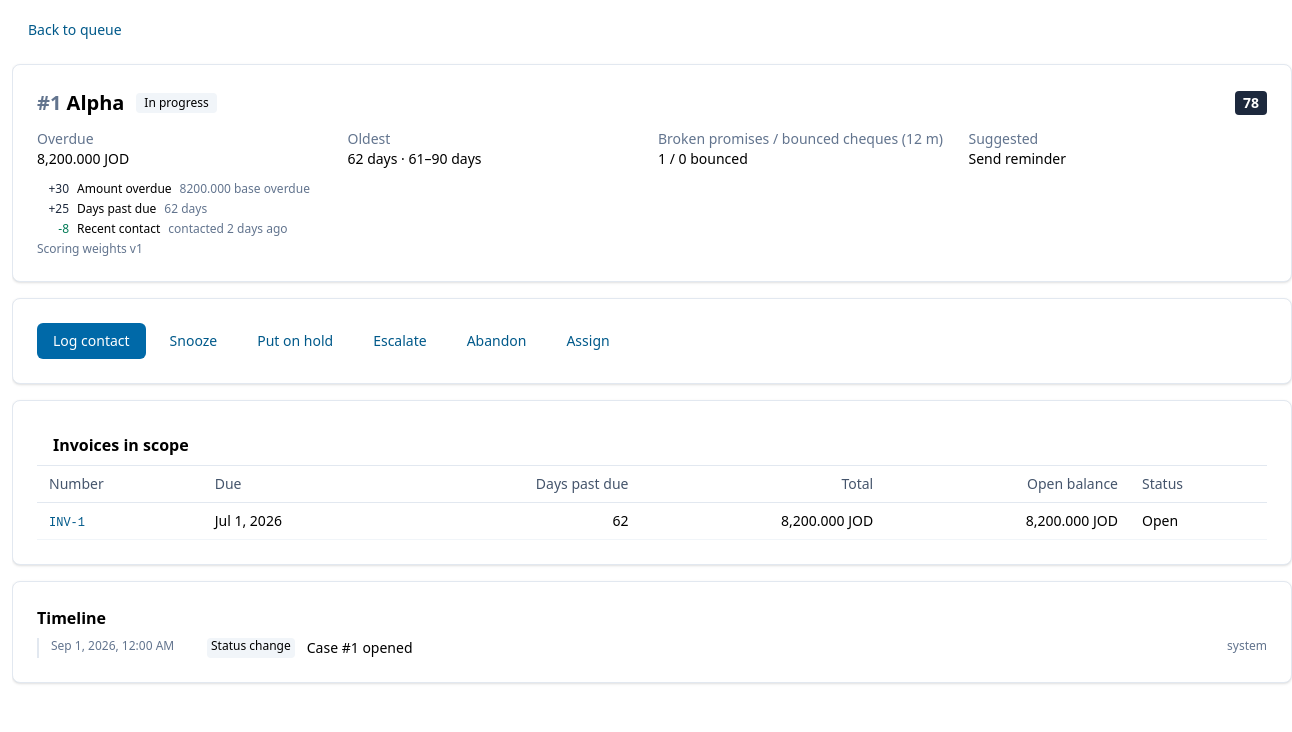
Scenario: collection queue (slice 5 AC-17) › shows the hard confirmation before escalating and sends the reason
The image size is (1292, 732).
Expected: the element with test id "priority-score" reads "78", x1=1243 y1=93 x2=1259 y2=112
Expected: the list with test id "factor-breakdown" is shown, x1=37 y1=180 x2=310 y2=257
Click the button with test id "escalate": coordinates (400, 341) x1=357 y1=323 x2=443 y2=359
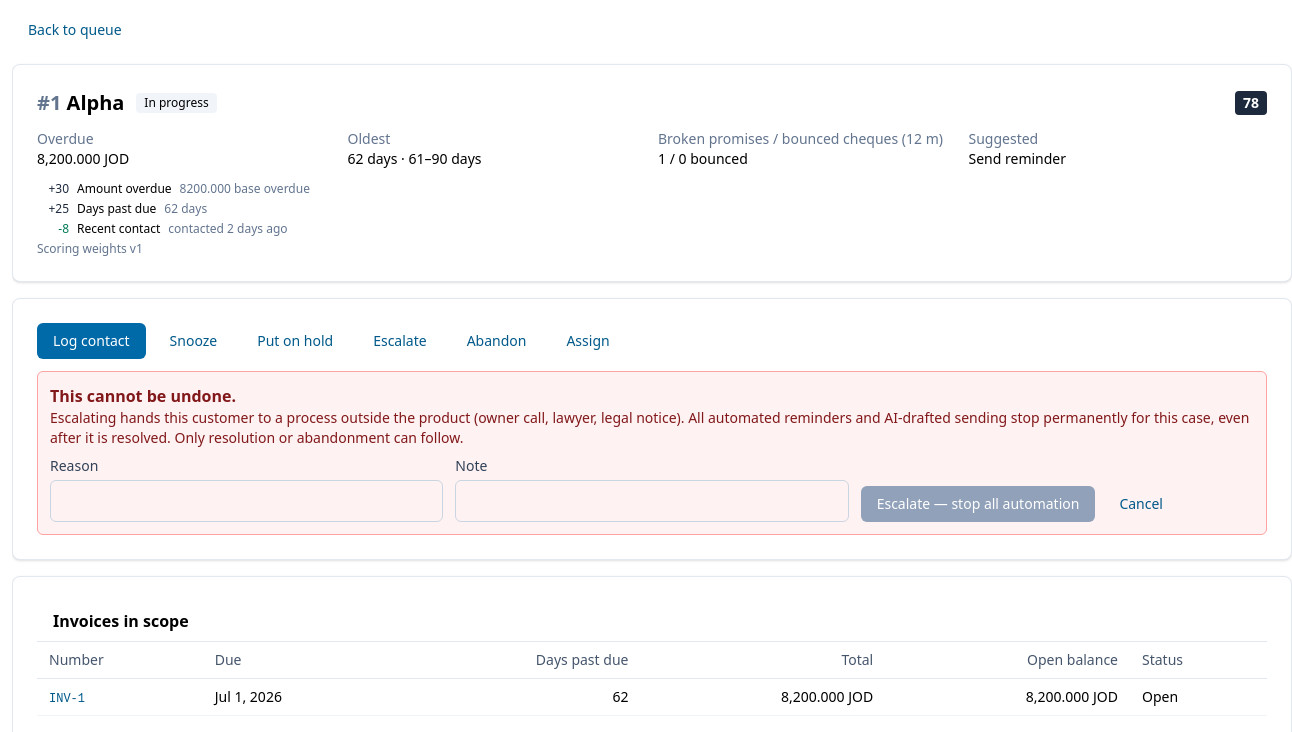
Now the element with test id "escalate-confirm" shows "stop permanently", box x1=50 y1=408 x2=1249 y2=447
Now the button with test id "escalate-submit" is disabled, box x1=861 y1=486 x2=1095 y2=522
In the field with test id "escalate-reason": coordinates (247, 501) x1=50 y1=480 x2=443 y2=522, type "lawyer"
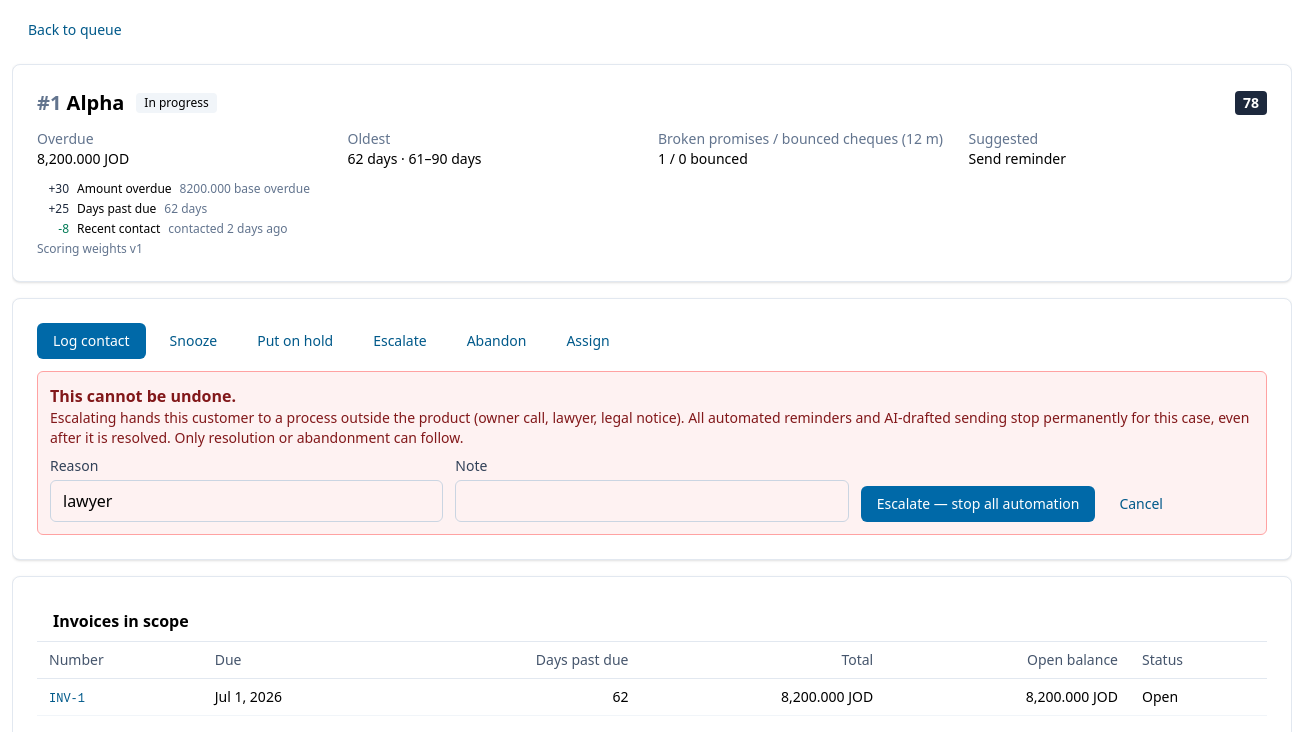
Click the button with test id "escalate-submit": coordinates (978, 504) x1=861 y1=486 x2=1095 y2=522
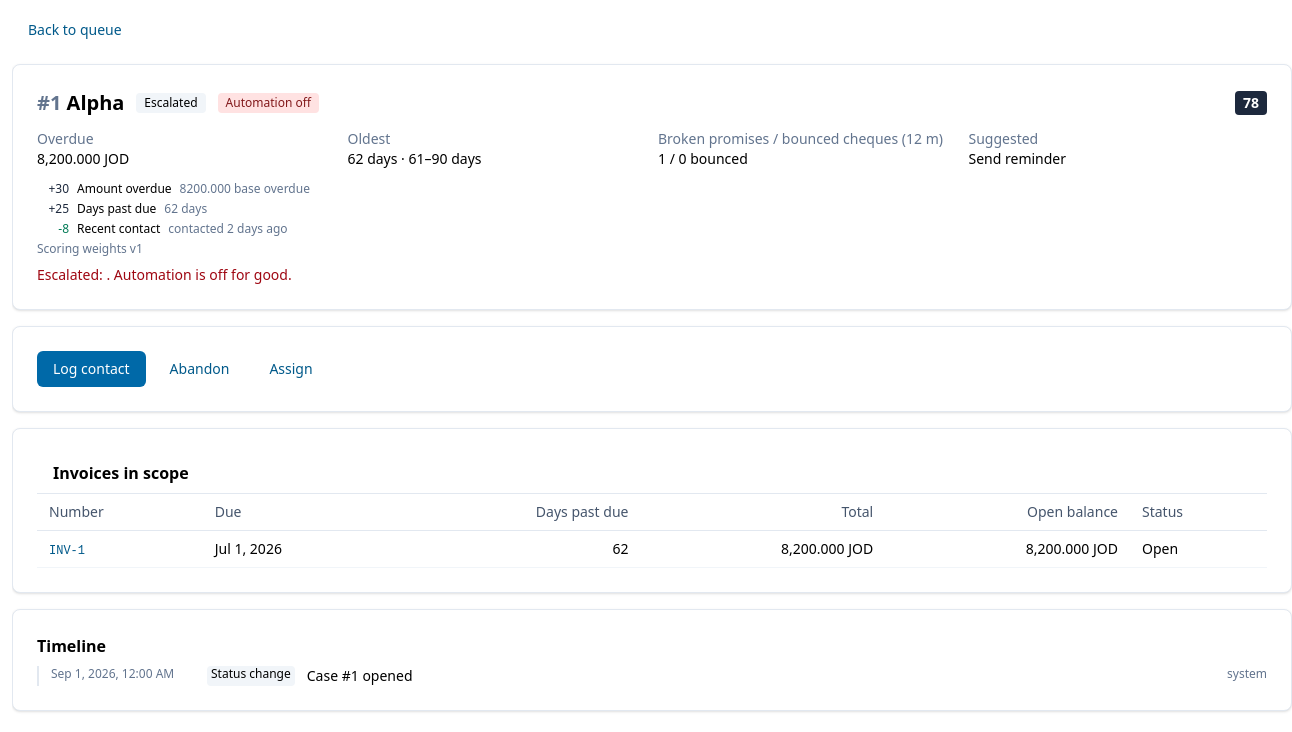
Now the text "Automation off" is shown, box x1=218 y1=93 x2=319 y2=113
